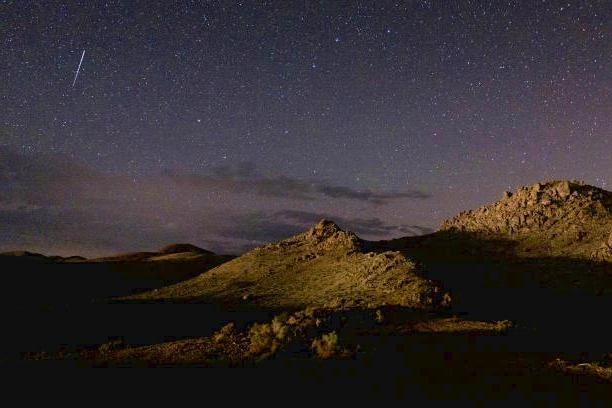meteorite: (58, 32, 101, 94)
